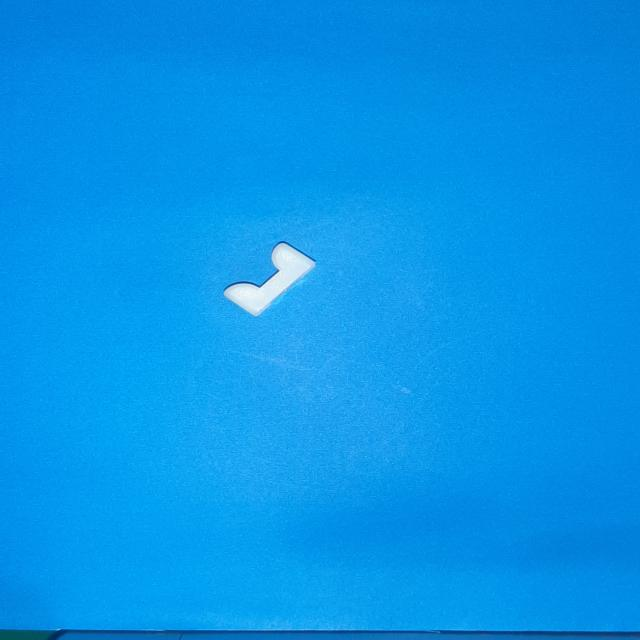false_2: (223, 242, 315, 316)
